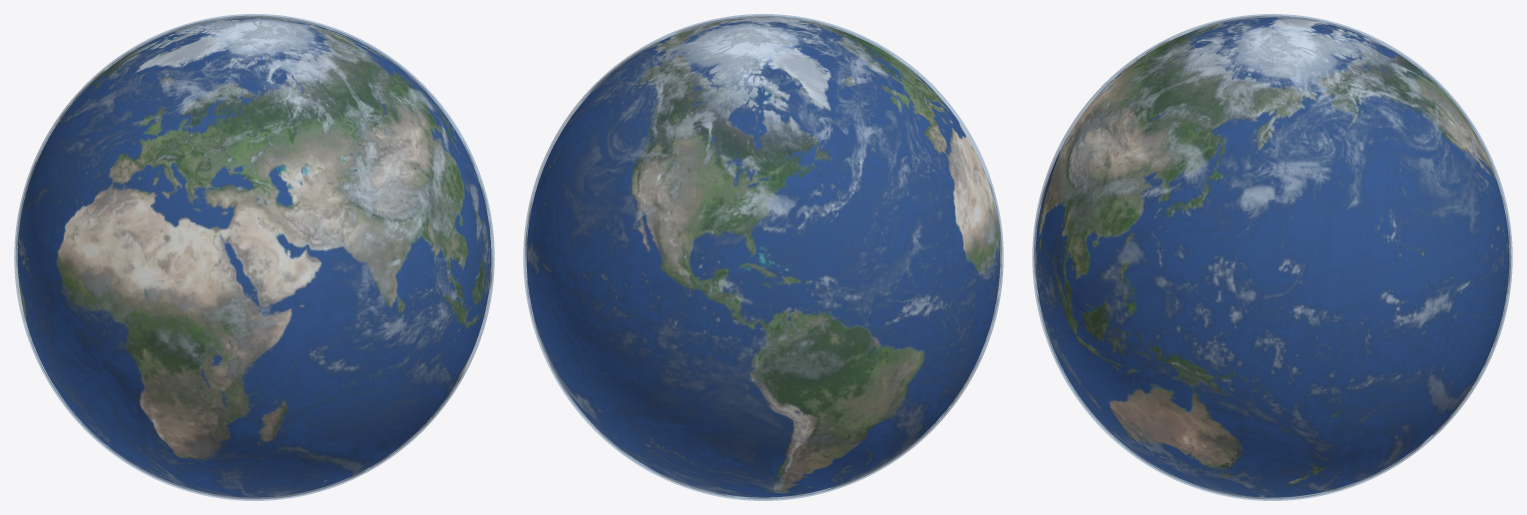
Rendered from earth.glb.
3 renders of one model, left to right at view 1: azimuth 30°, elevation 25°; view 2: azimuth 150°, elevation 25°; view 3: azimuth 270°, elevation 25°, orthographic.
Parts seen in each view (by area): view 1: pSphere5, pSphere1, pSphere4; view 2: pSphere5, pSphere1, pSphere4; view 3: pSphere5, pSphere1, pSphere4.
Part boxes in pixels (x1,y1,x2,y2): pSphere5: (14, 14, 494, 500); pSphere1: (17, 17, 491, 497); pSphere4: (16, 15, 492, 499); pSphere5: (523, 14, 1003, 500); pSphere1: (526, 17, 1000, 497); pSphere4: (525, 15, 1001, 499); pSphere5: (1032, 14, 1512, 500); pSphere1: (1035, 17, 1509, 497); pSphere4: (1034, 15, 1510, 499).
Size of the model in its own units: 192 by 196 by 192.
3 materials, 2 textured.
